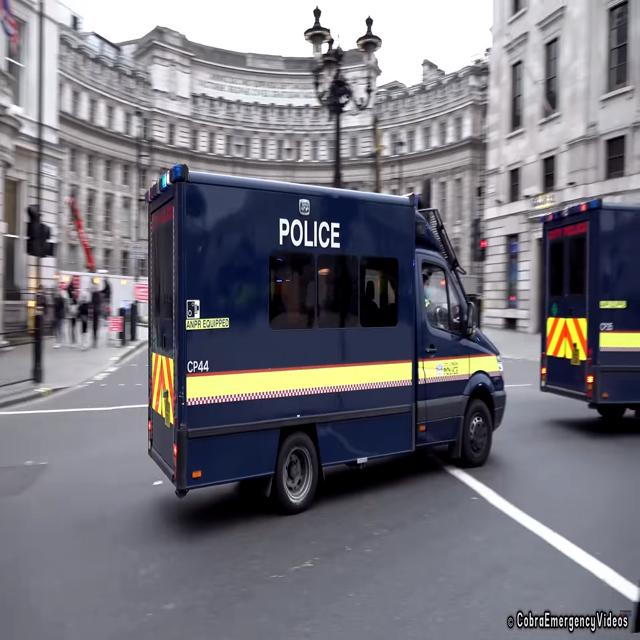emergency-vehicles: (124, 159, 514, 527), (535, 192, 640, 437)
